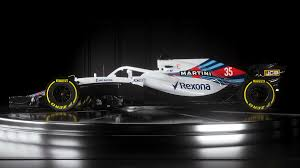FormulaOneCar: (6, 51, 291, 121)
